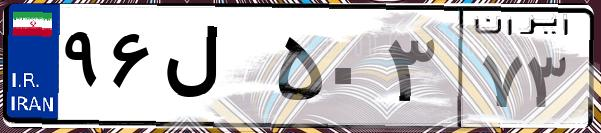0: (330, 28, 385, 110)
3: (385, 28, 445, 110), (525, 38, 570, 115)
5: (270, 28, 330, 110)
6: (110, 28, 158, 98)
7: (475, 38, 525, 113)
9: (57, 26, 110, 100)
ل: (158, 20, 270, 120)
